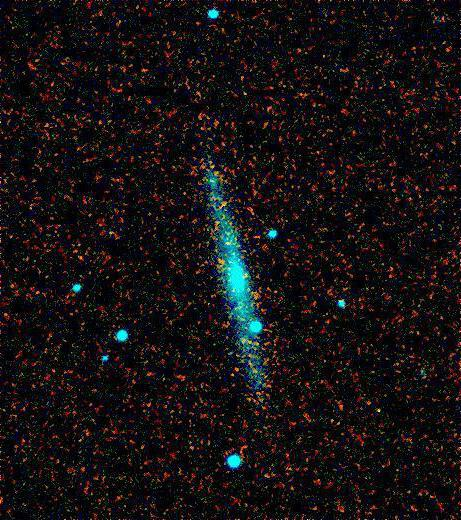star: (363, 392, 393, 422)
